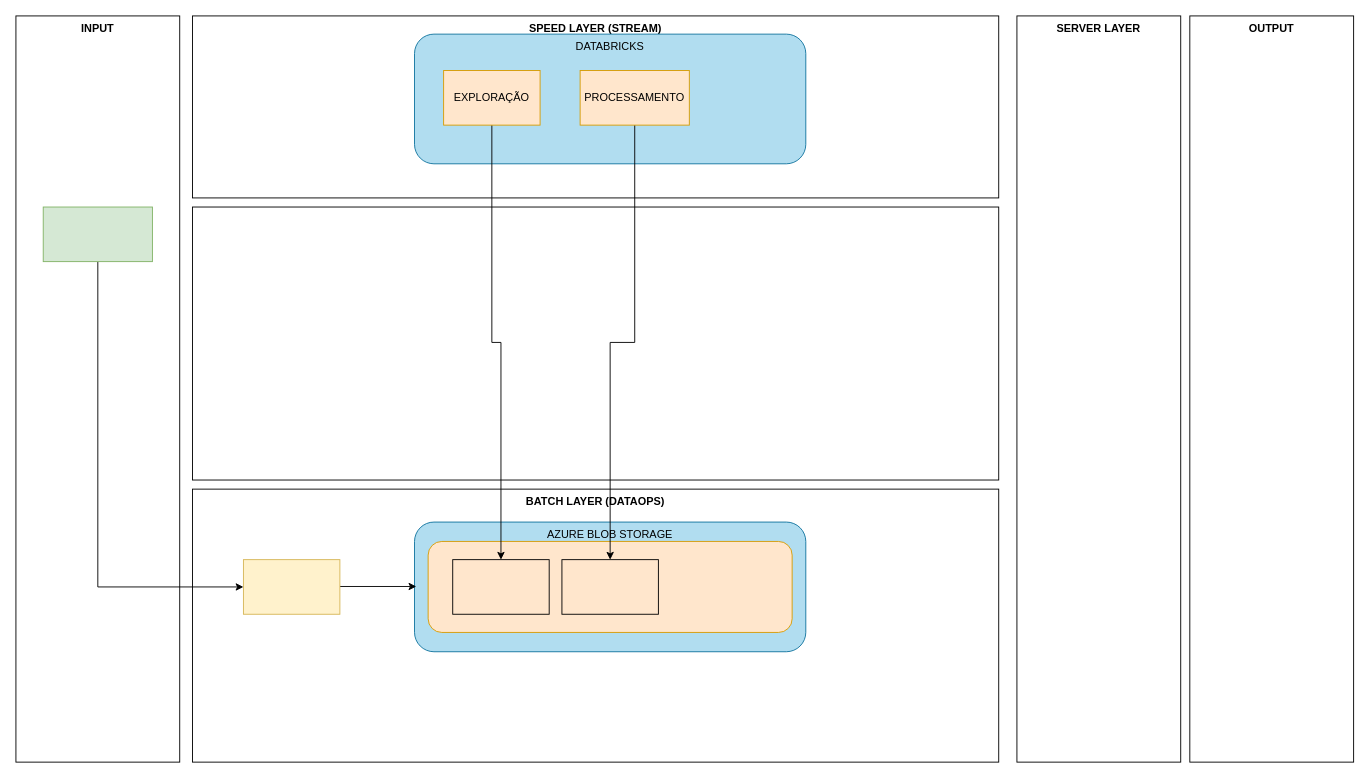
Image size: 1370x778. Some labels were removed from this diagram. The centre of each missing label's shape, as x and y in pixels:
CONTEXT: the point at 609,586
MACHINE LEARNING & AI (MLOPS): the point at 595,343
MINIO <LAND>: the point at 97,234
NIFI: the point at 291,586
RAW: the point at 500,586
